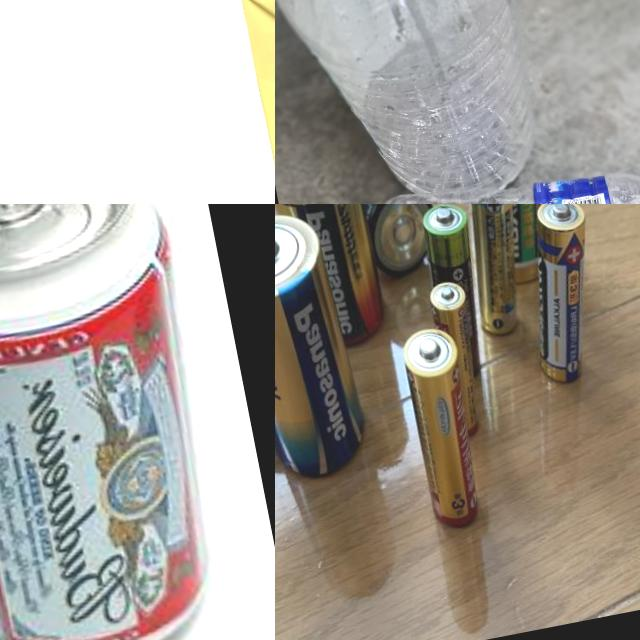bateria: (275, 204, 382, 495), (392, 316, 490, 533), (510, 204, 616, 392), (275, 204, 393, 364), (413, 204, 502, 390), (441, 204, 589, 290), (422, 274, 494, 450), (449, 204, 540, 339), (316, 204, 447, 290)
garrafa plástica: (275, 0, 561, 204), (374, 155, 640, 204)
lata: (0, 204, 252, 640)
